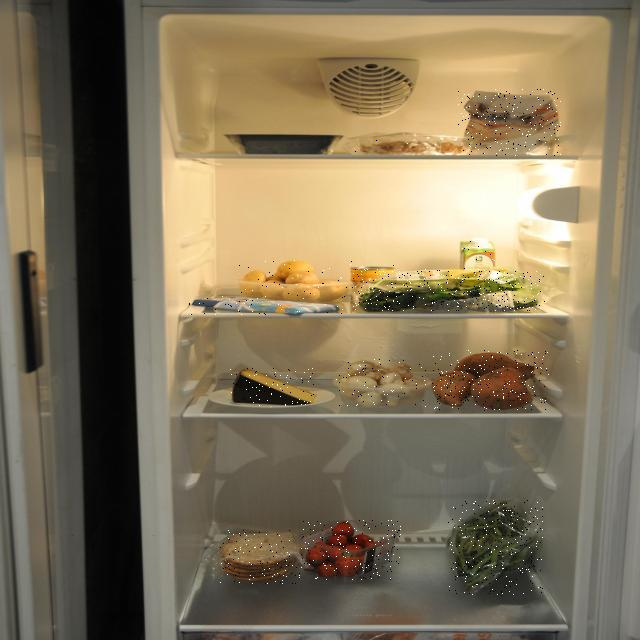bread: (220, 530, 302, 584)
cheese: (230, 368, 314, 406)
chocolate: (190, 296, 344, 315)
corn: (347, 264, 397, 311)
flour: (458, 89, 561, 156)
green_beans: (448, 500, 543, 596)
heavy_cream: (459, 237, 498, 300)
mushrooms: (336, 359, 426, 407)
potato: (234, 259, 352, 302)
shrimp: (355, 139, 468, 156)
spinach: (353, 269, 545, 311)
strawberries: (301, 520, 401, 580)
sweet_potato: (432, 350, 549, 411)
